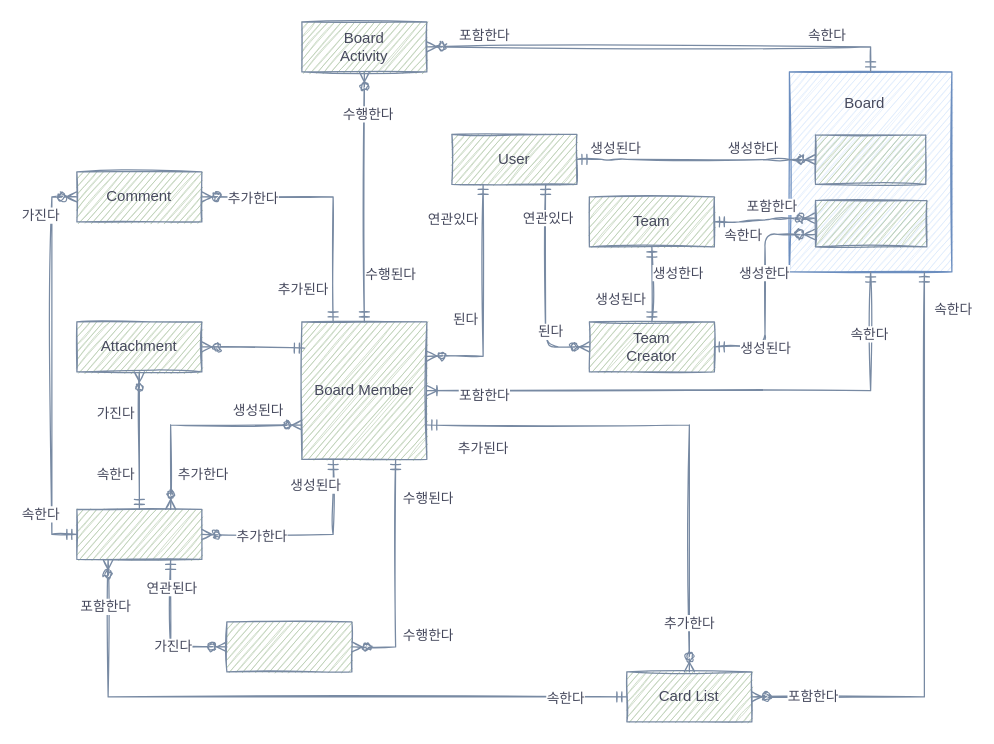
Some shapes in this 994 by 744 pixel diagram are drawn without their labels. Here are the shapes that lost their labels. From the top down, the centre of each, then its label:
At [870,159]: "Personal Board".
At [870,223]: "Team Board".
At [139,533]: "Card".
At [289,646]: "Card Activity".
